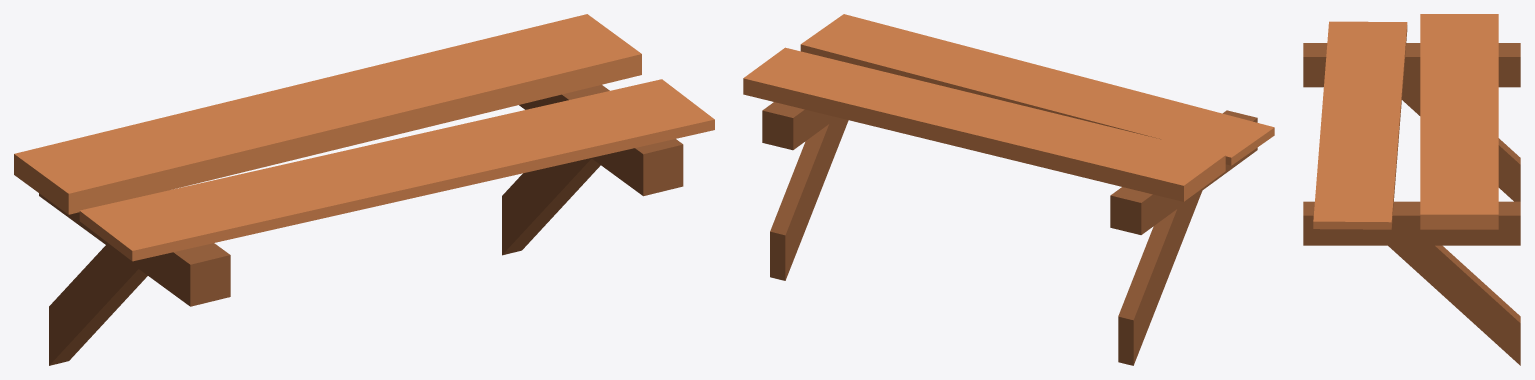
The model's file is bridgeHalf.dae.
3 views of the same model, side by side, from view 1: azimuth 30°, elevation 25°; view 2: azimuth 150°, elevation 25°; view 3: azimuth 270°, elevation 25° (orthographic). The views are drawn at different scales.
Parts seen in each view (by area): view 1: bridgeHalf; view 2: bridgeHalf; view 3: bridgeHalf.
Part boxes in pixels (bbox=[...]): bridgeHalf: bbox=[14, 14, 714, 365]; bridgeHalf: bbox=[743, 14, 1274, 365]; bridgeHalf: bbox=[1303, 14, 1520, 365].
Size of the model in its own units: 1 by 0.3925 by 0.4575.
